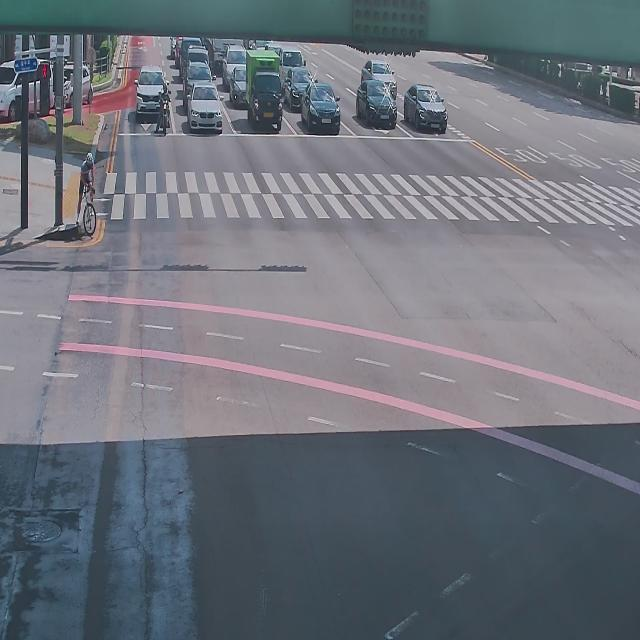Car: (0, 52, 56, 124), (403, 84, 448, 134), (61, 54, 102, 108), (356, 79, 397, 130), (301, 82, 340, 134), (186, 81, 223, 134), (134, 64, 169, 114), (361, 59, 397, 100), (284, 66, 317, 110), (181, 64, 215, 90), (220, 43, 245, 78), (229, 66, 251, 100)
Motorcycle: (155, 81, 171, 134)
Truck: (246, 50, 284, 132), (207, 36, 226, 59)
